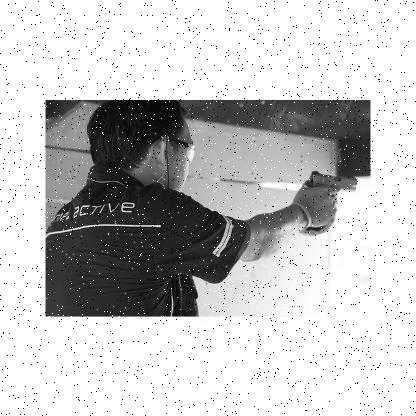gun: (301, 170, 358, 230)
